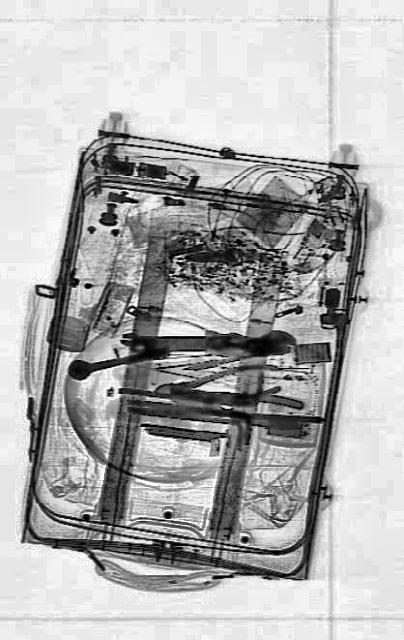Pliers: (152, 360, 282, 408)
Wrench: (120, 330, 244, 348)
